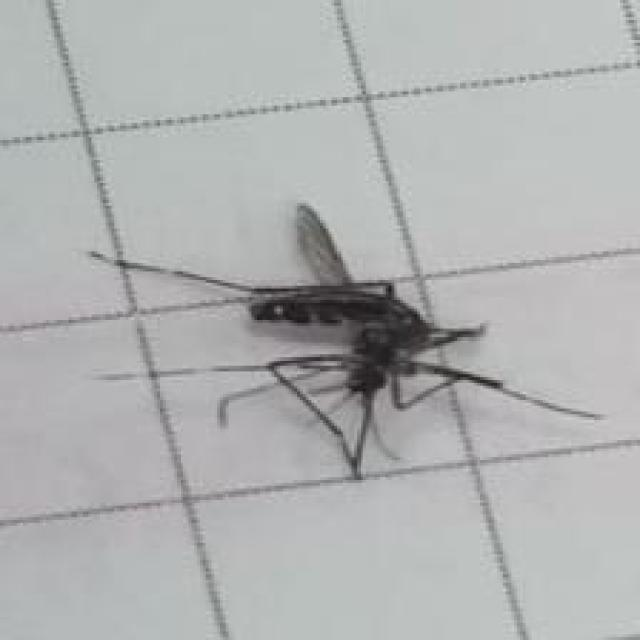Aedes albopictus: (86, 202, 608, 482)
